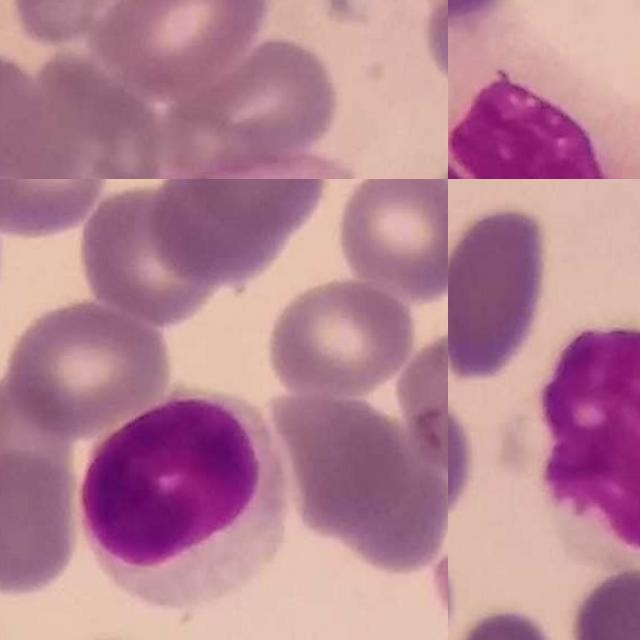Lymphocyte: (82, 388, 297, 613), (516, 320, 640, 561)
Monocyte: (448, 44, 640, 179)
